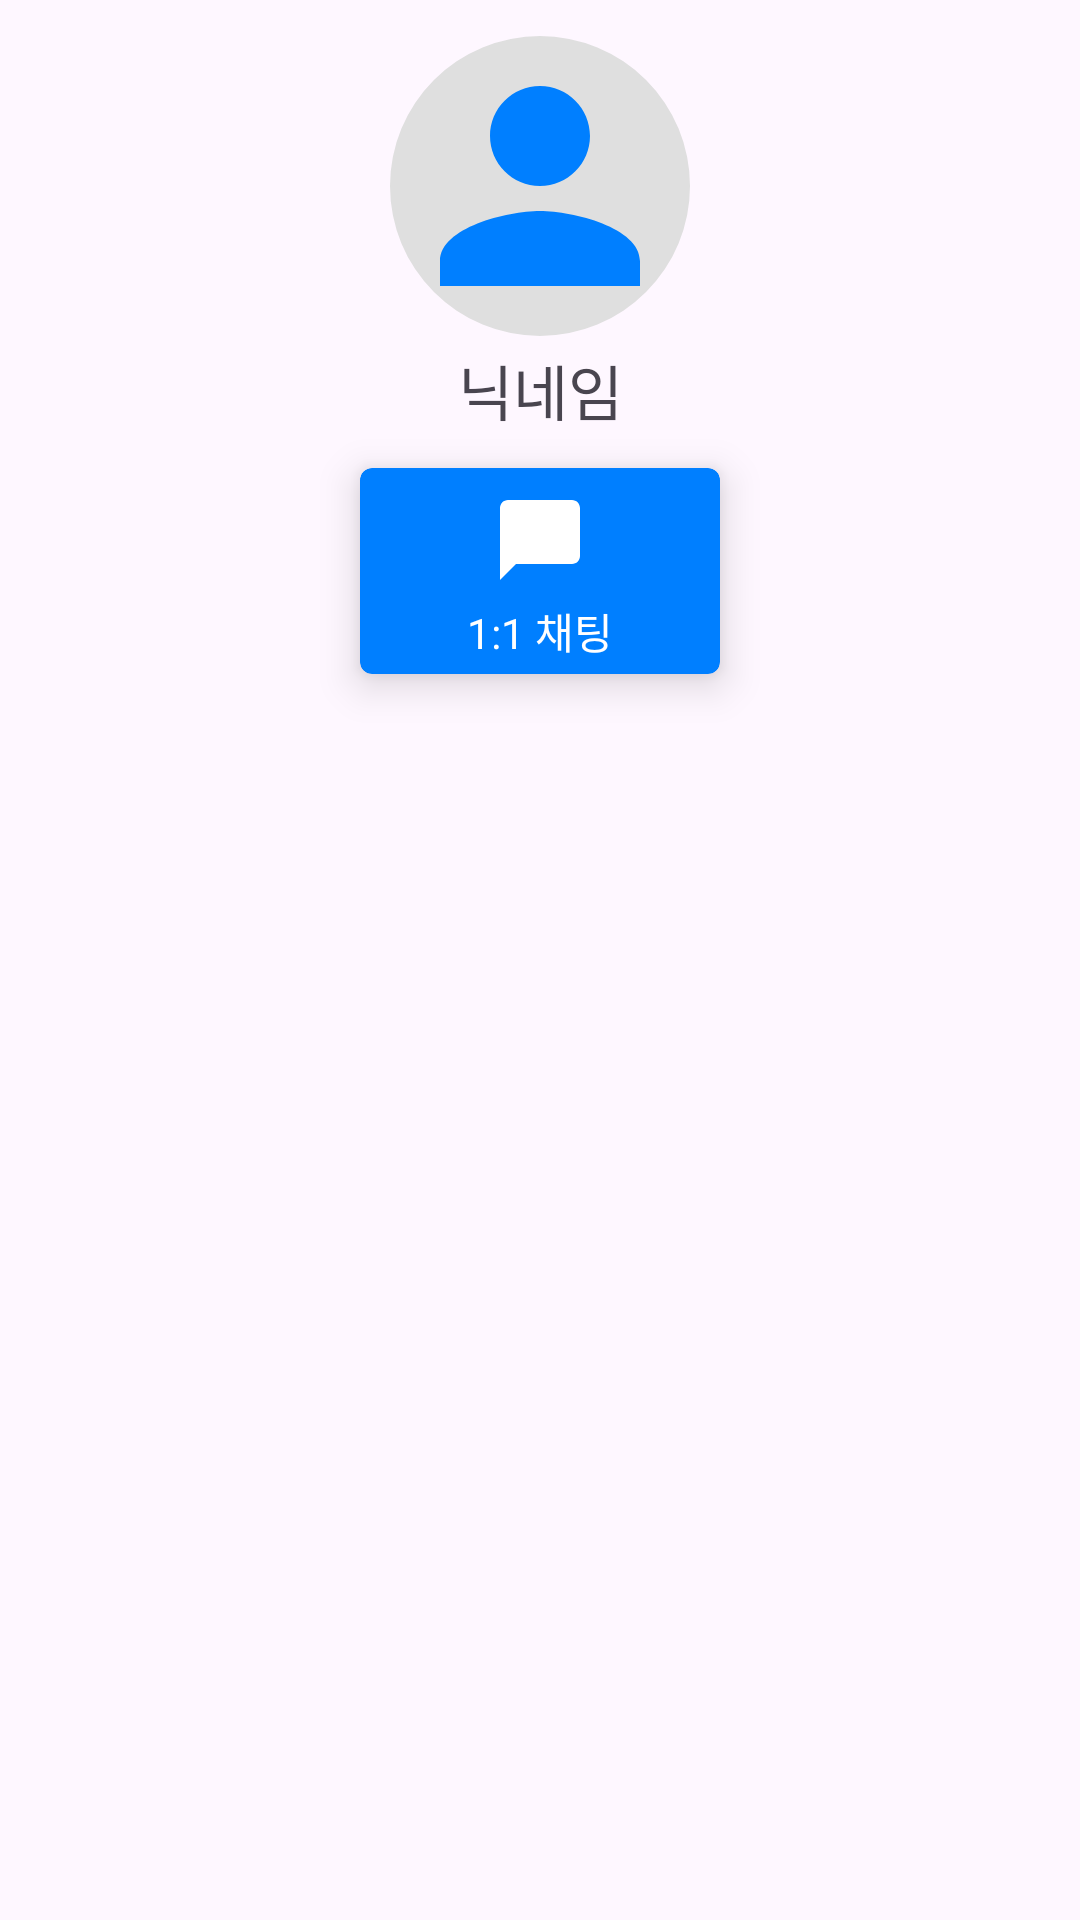

Where icons sit on this 1080 × 1920 app screen, as (x1, y1, x2, y2):
chat bubble: (500, 500, 580, 580)
person: (390, 36, 690, 336)
